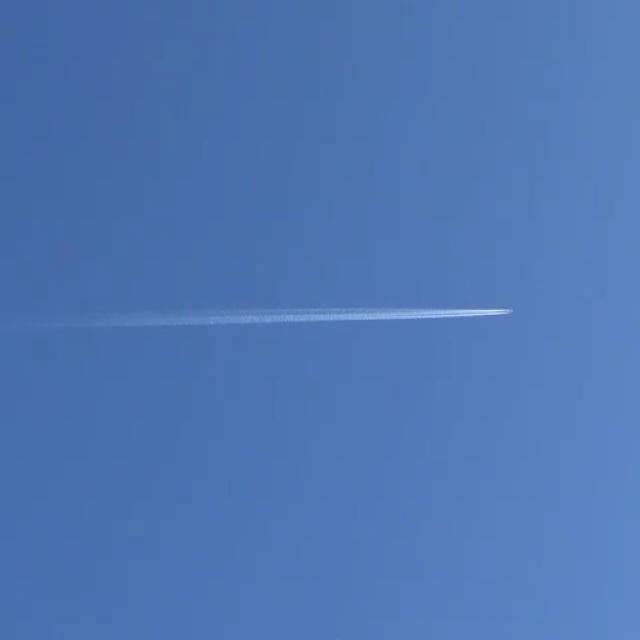AirPlane: (441, 288, 525, 338)
